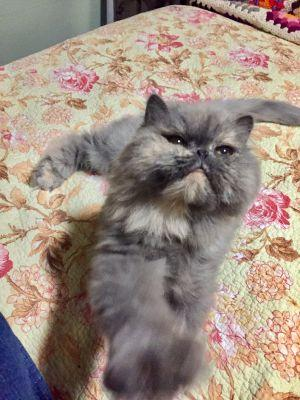persian: (107, 84, 274, 234)
